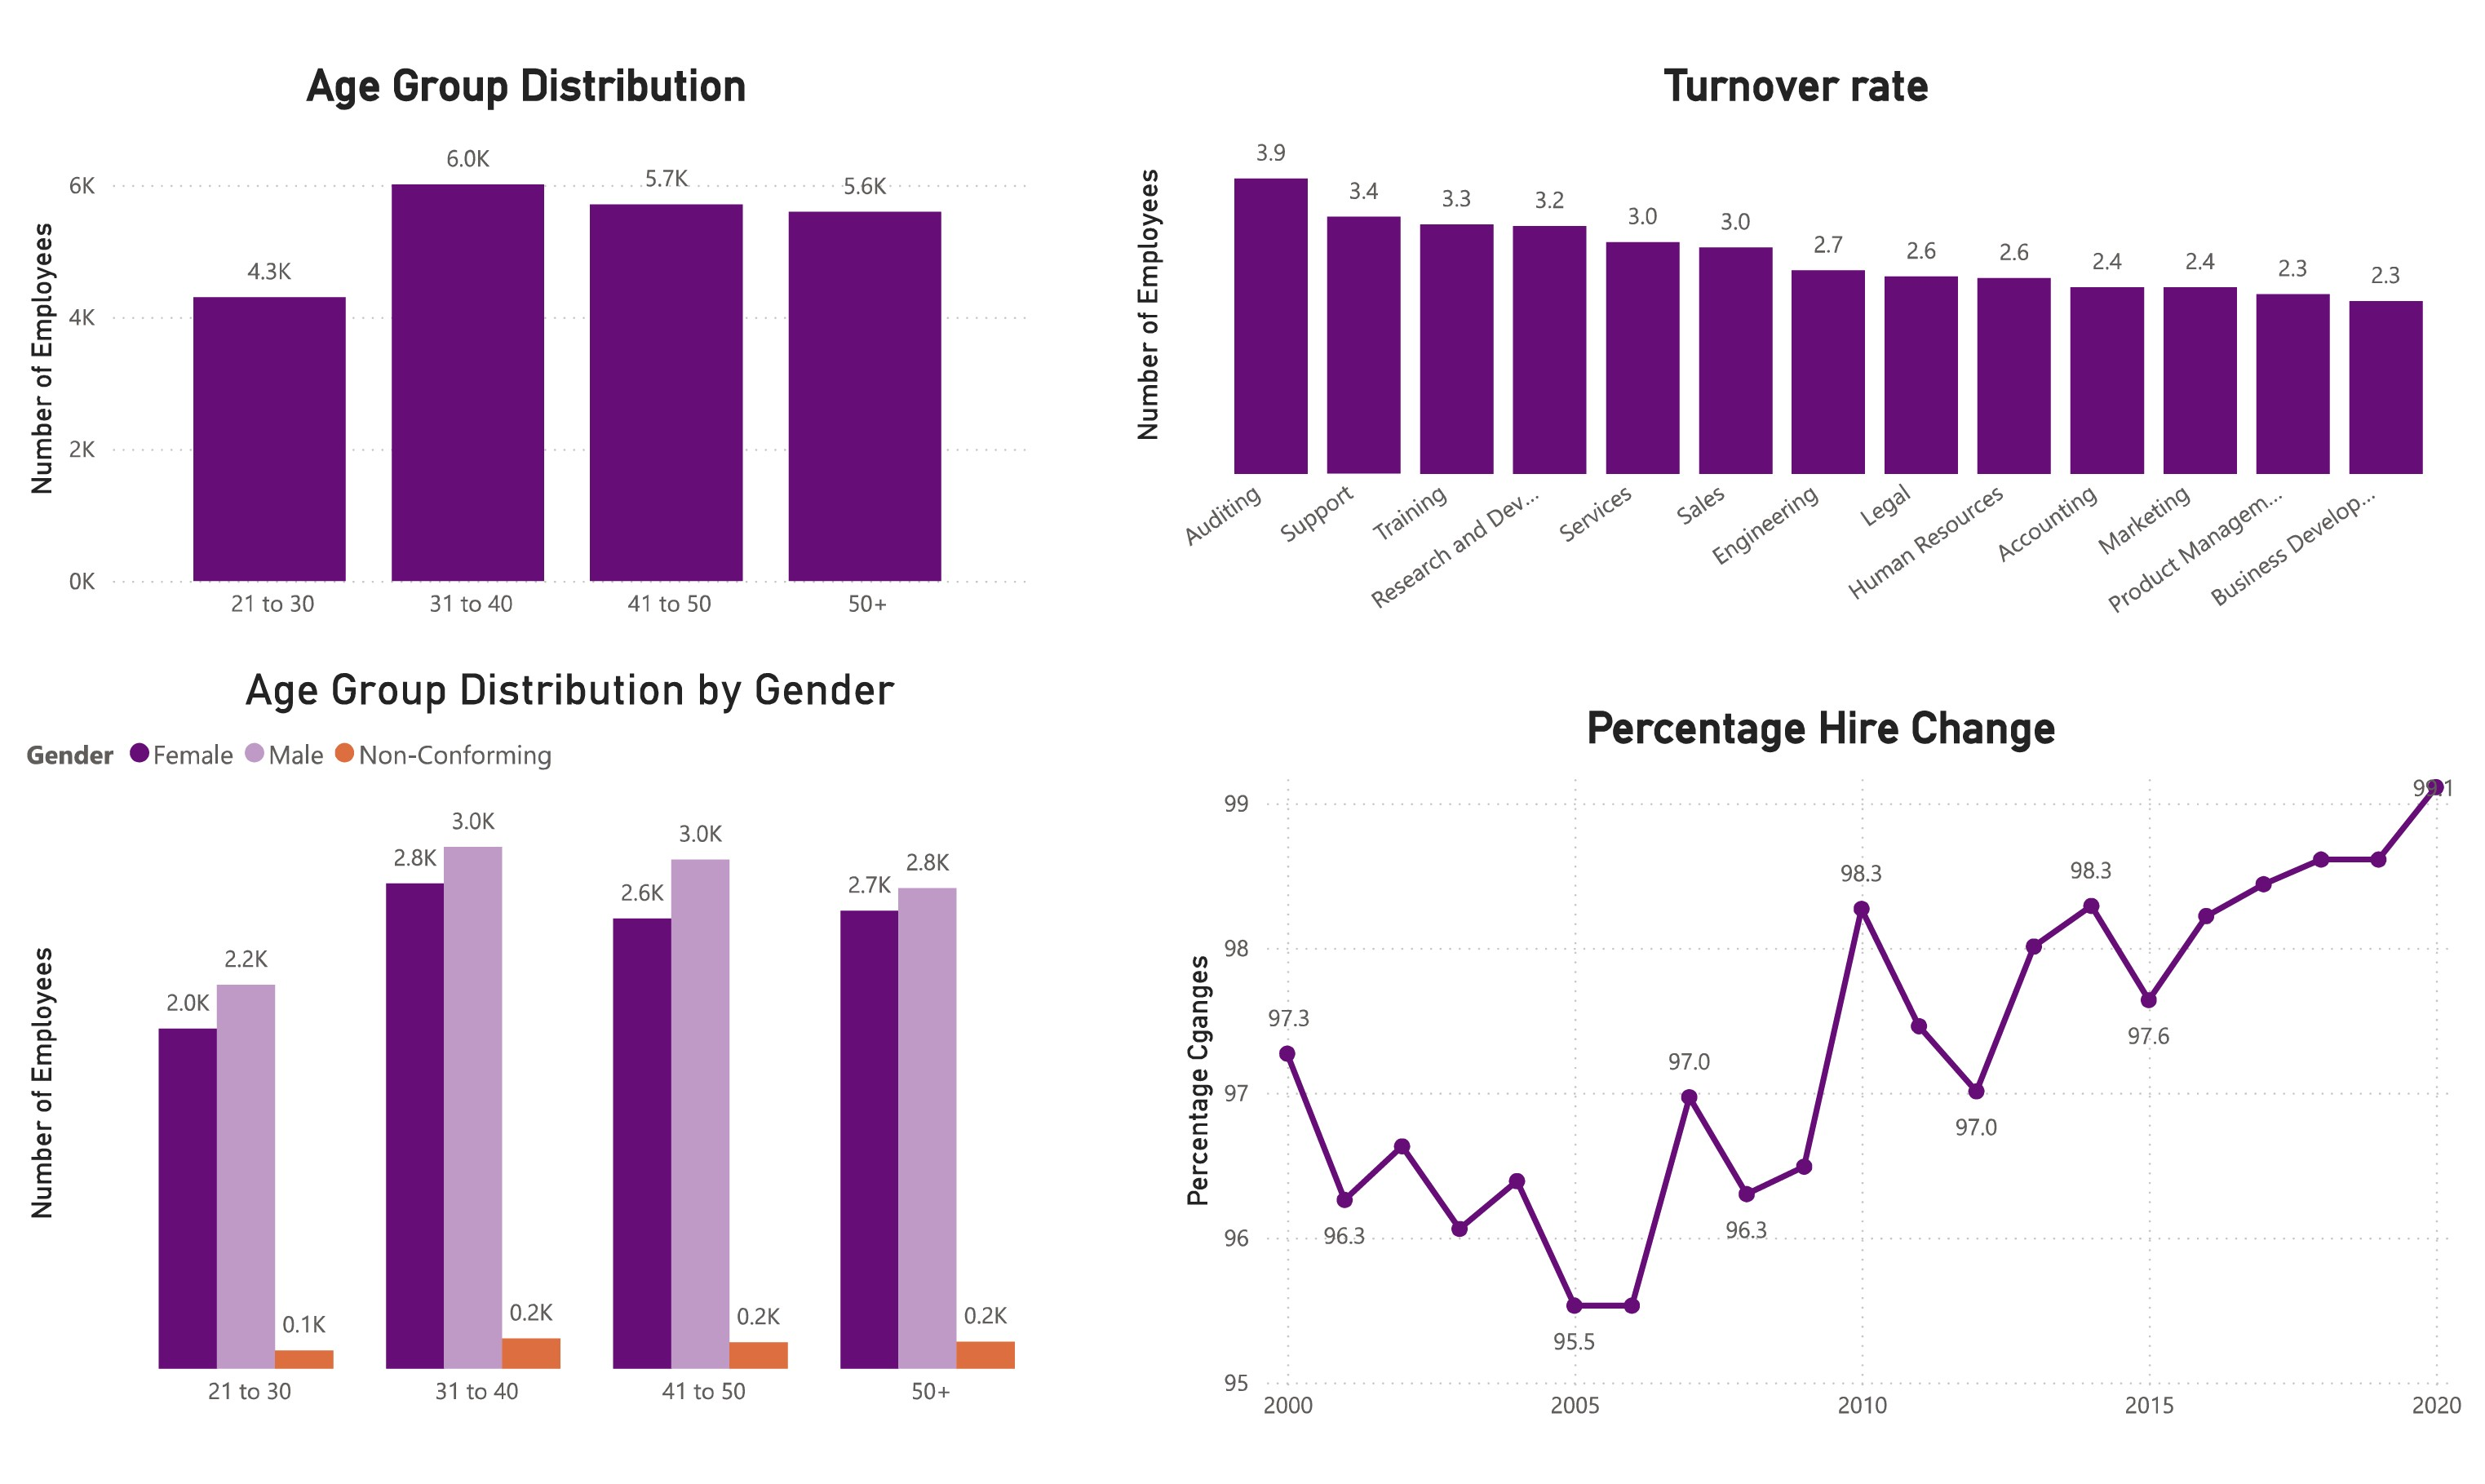

The dashboard page shown, as its layout file describes it:
{"tool":"powerbi","page":{"name":"Page 2","canvas":[1280,720],"ordinal":1},"visuals":[{"type":"columnChart","title":"Age Group Distribution","fields":{"Category":["age group distribution.Column1"],"Y":["Sum(age group distribution.Column2)"]},"box":[0,0,532.3,302.3],"z":0},{"type":"clusteredColumnChart","title":"Age Group Distribution by Gender","fields":{"Category":["age group distribution by gender.Column1"],"Y":["Sum(age group distribution by gender.Column3)"],"Series":["age group distribution by gender.Column2"]},"box":[0,314.6,576.9,396.9],"z":1000},{"type":"columnChart","title":"Turnover rate ","fields":{"Category":["turnover rate.Column1"],"Y":["Sum(turnover rate.Column4)"]},"box":[576.9,0,703.1,302.3],"z":2000},{"type":"lineChart","title":"Percentage Hire Change","fields":{"Category":["percentage_hire_change.Column1"],"Y":["Sum(percentage_hire_change.Column5)"]},"box":[603.3,335,676.7,385],"z":3000}]}

Visuals, with their boxes on the page's 1280x720 design canvas (x1, y1, x2, y2). These are canvas units, not pixel positions in the 2485x1484 screenshot, which may show the page scaled, cropped or inside an application window:
"Age Group Distribution" columnChart: 0/0/532/302
"Age Group Distribution by Gender" clusteredColumnChart: 0/315/577/712
"Turnover rate " columnChart: 577/0/1280/302
"Percentage Hire Change" lineChart: 603/335/1280/720
